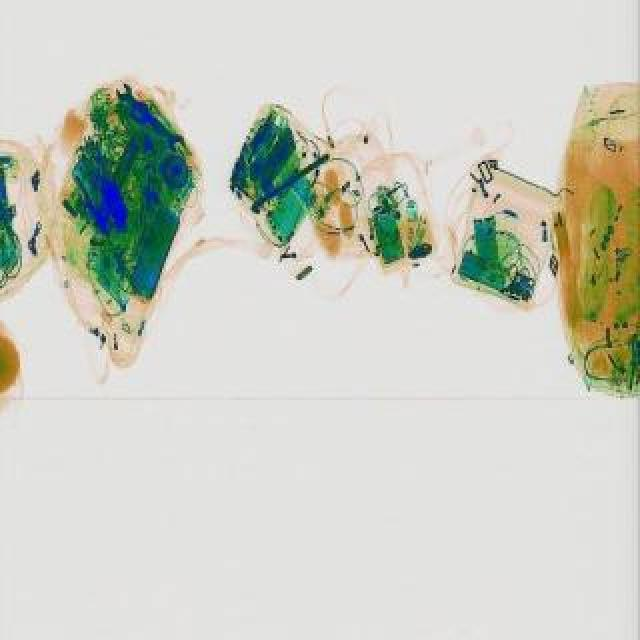scissors: (112, 80, 192, 158)
